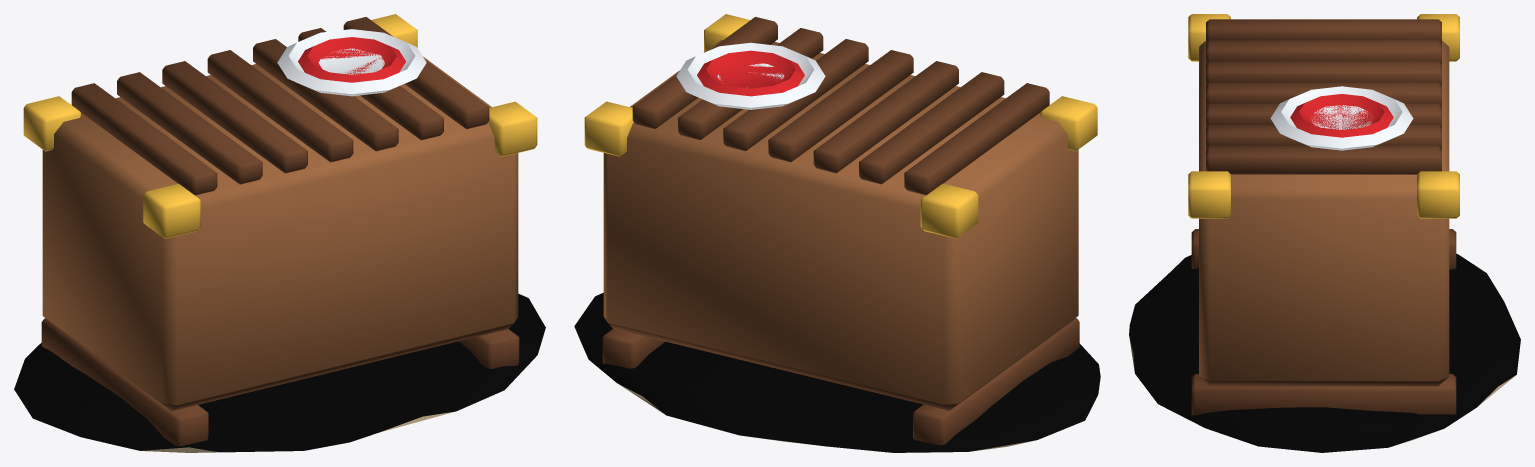
File: OfferingBox.fbx
3 renders of one model, left to right at view 1: azimuth 30°, elevation 25°; view 2: azimuth 150°, elevation 25°; view 3: azimuth 270°, elevation 25°, orthographic. The views are drawn at different scales.
Parts seen in each view (by area): view 1: OfferingBox; view 2: OfferingBox; view 3: OfferingBox.
Part boxes in pixels (x1,y1,x2,y2): OfferingBox: (14, 14, 545, 452); OfferingBox: (574, 14, 1100, 452); OfferingBox: (1129, 14, 1520, 452).
Size of the model in its own units: 1.52 by 0.82 by 1.1.
Materials: 1 (1 with a texture image).
